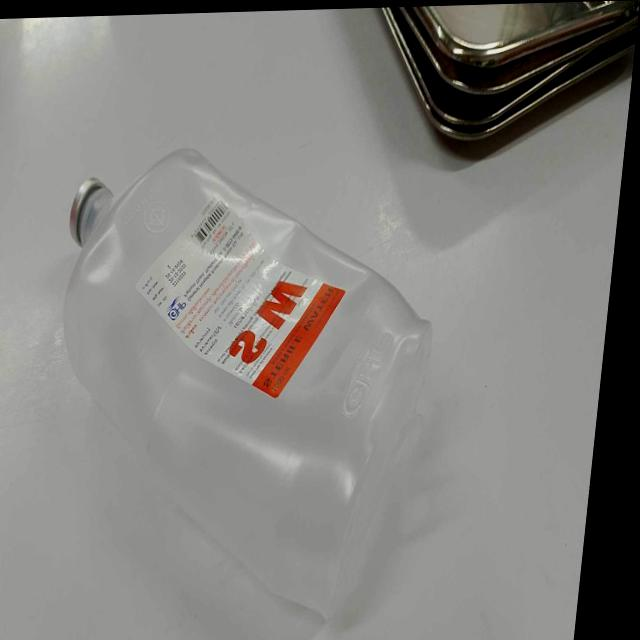General: (134, 194, 349, 401)
Infectious: (62, 146, 434, 624)
Sharps: (382, 1, 639, 142)
